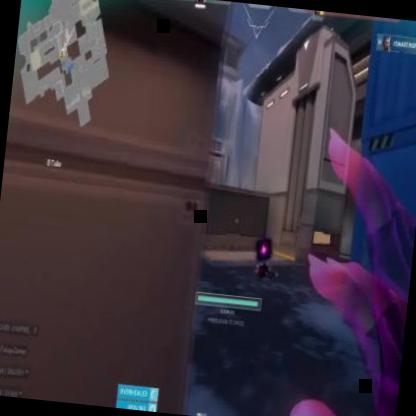enemy: (206, 176, 218, 198)
enemy_head: (211, 178, 215, 184)
